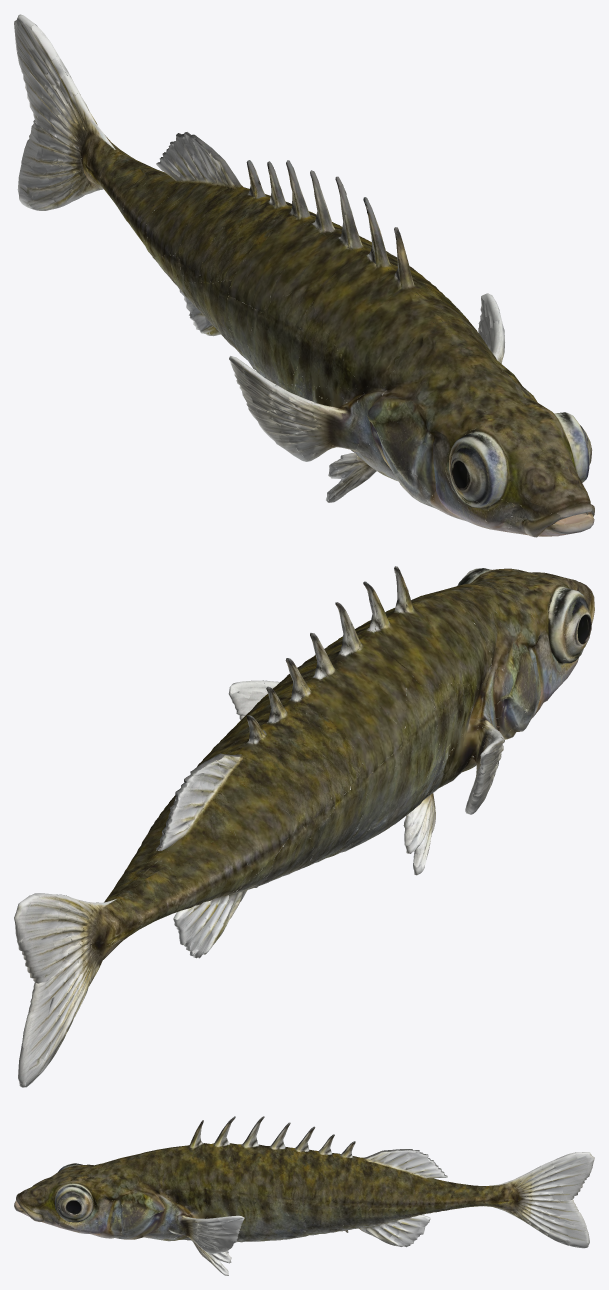
The model's file is cierniczek.glb.
The picture shows the model from 3 angles, top to bottom: view 1: azimuth 30°, elevation 25°; view 2: azimuth 150°, elevation 25°; view 3: azimuth 270°, elevation 25°; orthographic projection. The views are drawn at different scales.
Visible parts, largest first — view 1: Mesh_0; view 2: Mesh_0; view 3: Mesh_0.
Boxes of the visible parts, <box> form: Mesh_0: <box>14,14,594,537</box>; Mesh_0: <box>14,566,594,1087</box>; Mesh_0: <box>14,1116,594,1275</box>.
Bounding box in the file's own units: 0.5049 × 0.5357 × 1.9.
Materials: 1 (1 with a texture image).
